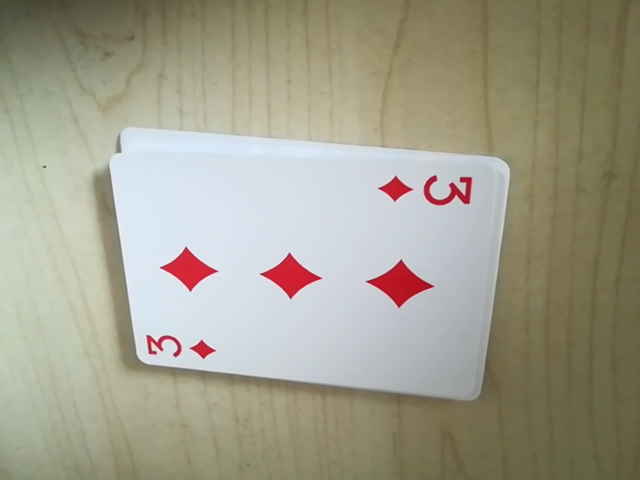fk 3: (373, 163, 482, 215), (138, 326, 219, 364)
